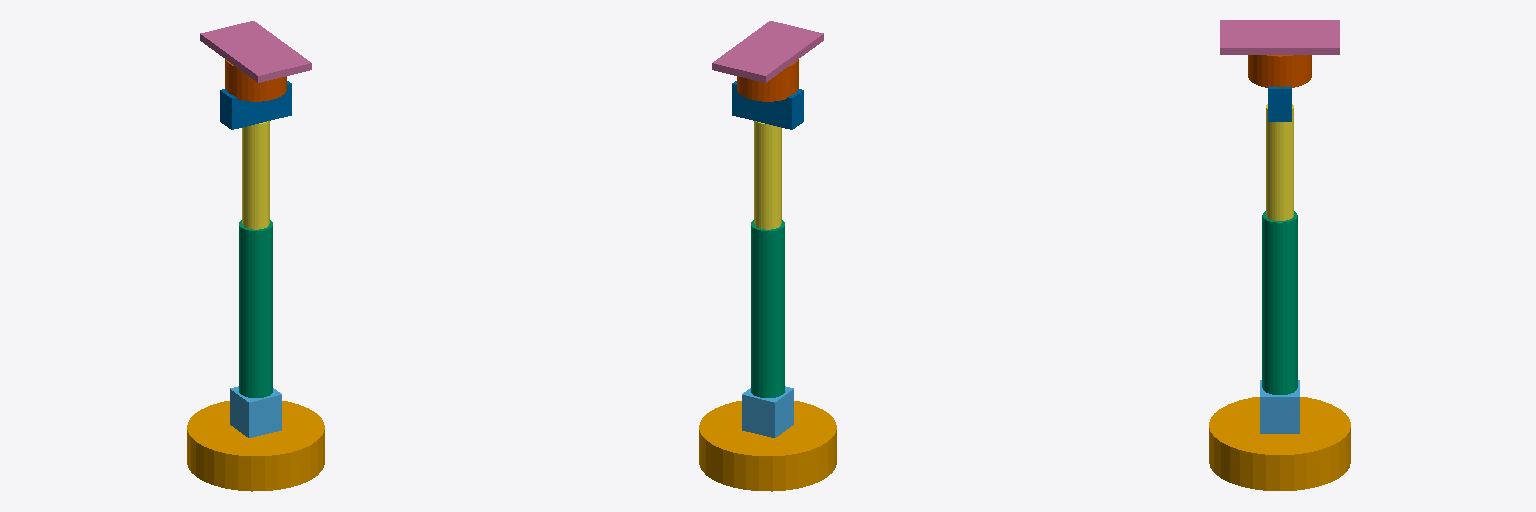
robot.urdf — robot_arm:
<robot name="robot_arm">
    <link name="base_link">
       <visual>
           <origin xyz="0 0 0.0225" rpy="0 0 0"/>
           <geometry>
               <cylinder length="0.050" radius="0.089"/>
           </geometry>
       </visual>	
   </link>

   <link name="base_rot">
       <visual>
             <geometry>
               <box size="0.05 0.05 0.053" />
           </geometry>
       </visual>	
   </link>
   
   <joint name="base_joint" type="revolute">
     <parent link="base_link"/>
     <child link="base_rot"/>
     <origin xyz="0 0 0.072" rpy="0 0 0" />
     <axis xyz="0 0 -1"/>
   </joint>
   
   <link name="arm1">
       <visual>
         <origin xyz="0 0 0.119" rpy="0 0 0" />
             <geometry>
               <cylinder length="0.238" radius="0.022"/>
           </geometry>
       </visual>	
   </link>
   <joint name="shoulder_joint" type="revolute">
     <parent link="base_rot"/>
     <child link="arm1"/>
     <origin xyz="0 0 0.027" rpy="0 0 0" />
     <axis xyz="1 0 0"/>
     <limit lower="-1.57" upper="1.57" />
   </joint>
   
   <link name="arm2">
       <visual>
         <origin xyz="0 0 0.075" rpy="0 0 0" />
             <geometry>
               <cylinder length="0.150" radius="0.0175"/>
           </geometry>
       </visual>	
   </link>
   
   <link name="tilt">
       <visual>
         <origin xyz="0 0 0.0225" rpy="0 0 0" />
             <geometry>
               <box size="0.09 0.03 0.045" />
           </geometry>
       </visual>	
   </link>
   
   <link name="top">
       <visual>
         <origin xyz="0 0 0.02" rpy="0 0 0" />
             <geometry>
               <cylinder length="0.045" radius="0.04"/>
           </geometry>
       </visual>	
   </link>
   
   <link name="camera">
       <visual>
         <origin xyz="0 0 0.005" rpy="0 0 0" />
             <geometry>
               <box size="0.08 0.15 0.01" />
           </geometry>
       </visual>	
   </link>
   
   <joint name="elbow_joint" type="revolute">
     <parent link="arm1"/>
     <child link="arm2"/>
     <origin xyz="0 0 0.238" rpy="0 0 0" />
     <axis xyz="1 0 0"/>
       <limit lower="-1.92" upper="1.92" />
   </joint>
   
   <joint name="rot_joint" type="revolute">
     <parent link="arm2"/>
     <child link="tilt"/>
     <origin xyz="0 0 0.15" rpy="0 0 0" />
     <axis xyz="0 0 -1"/>
     <limit lower="-1.57" upper="2.8" />       
   </joint>
   
   <joint name="tilt_joint" type="revolute">
     <parent link="tilt"/>
     <child link="top"/>
     <origin xyz="0 0 0.045" rpy="0 0 0" />
     <axis xyz="-1 0 0"/>
     <limit lower="-1.78" upper="0.48" />       
   </joint>
   
   <joint name="rot2_joint" type="revolute">
     <parent link="top"/>
     <child link="camera"/>
     <origin xyz="0 0 0.045" rpy="0 0 0" />
     <axis xyz="0 0 1"/>
     <limit lower="-2.88" upper="2.1" />
   </joint>
   
</robot>

--- What the picture shows (computed from the rendered views, not written in the file) ---
3 views of the same robot in one strip: view 1: azimuth 30°, elevation 25°; view 2: azimuth 150°, elevation 25°; view 3: azimuth 270°, elevation 25° (orthographic).
Robot: robot_arm — 7 links, 6 joints (6 revolute); root link base_link; default pose: every joint at zero.
Links seen in each view (by area): view 1: base_link, arm1, camera, arm2, base_rot, tilt, top; view 2: base_link, arm1, camera, arm2, base_rot, tilt, top; view 3: base_link, arm1, camera, arm2, top, base_rot, tilt.
Link boxes in pixels (bbox=[...]): base_link: bbox=[187, 401, 324, 491]; arm1: bbox=[239, 220, 272, 397]; camera: bbox=[200, 21, 311, 82]; arm2: bbox=[242, 121, 269, 229]; base_rot: bbox=[230, 386, 281, 437]; tilt: bbox=[220, 81, 291, 129]; top: bbox=[225, 59, 286, 101]; base_link: bbox=[699, 401, 836, 491]; arm1: bbox=[751, 220, 784, 397]; camera: bbox=[712, 21, 823, 82]; arm2: bbox=[754, 121, 781, 229]; base_rot: bbox=[742, 386, 793, 437]; tilt: bbox=[732, 81, 803, 129]; top: bbox=[737, 59, 798, 101]; base_link: bbox=[1209, 397, 1350, 490]; arm1: bbox=[1262, 211, 1297, 394]; camera: bbox=[1220, 20, 1339, 54]; arm2: bbox=[1266, 104, 1293, 220]; top: bbox=[1248, 55, 1311, 87]; base_rot: bbox=[1260, 380, 1299, 433]; tilt: bbox=[1268, 86, 1291, 121].
Bounding box of the posed robot: 0.178 × 0.178 × 0.5895 m (x, y, z).
Geometry: primitives only (box / cylinder / sphere), no mesh files.